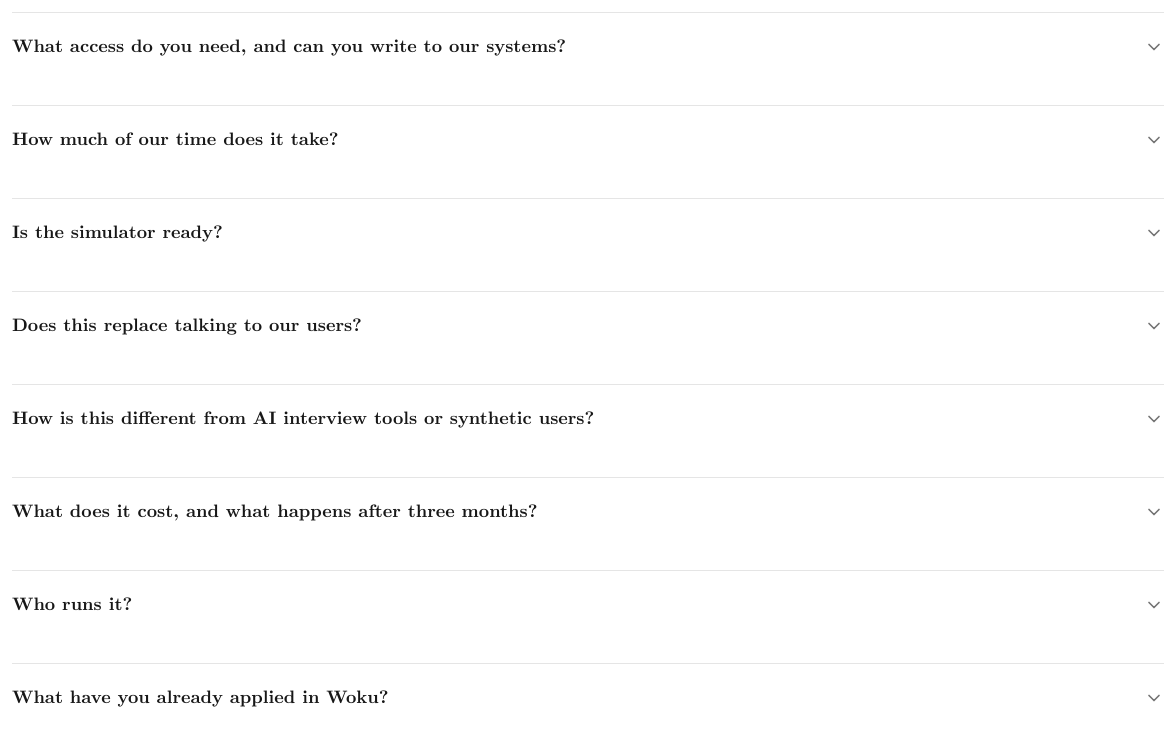
Test: Faq › keeps every answer in the HTML and opens one from its question
The image size is (1176, 732).
Click the button "What access do you need, and can you write to our systems?".
click(289, 46)  # box [12,13,1164,81]
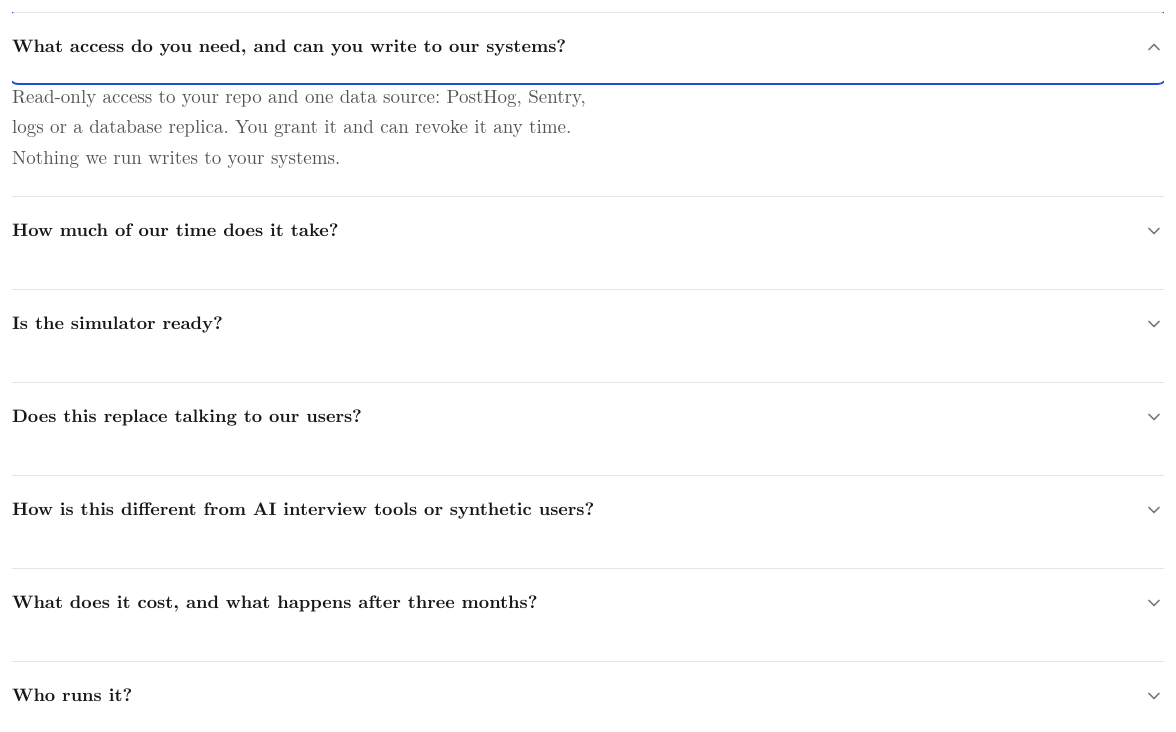
Check: the button "What access do you need, and can you write to our systems?" is expanded, box [12,13,1164,81]
